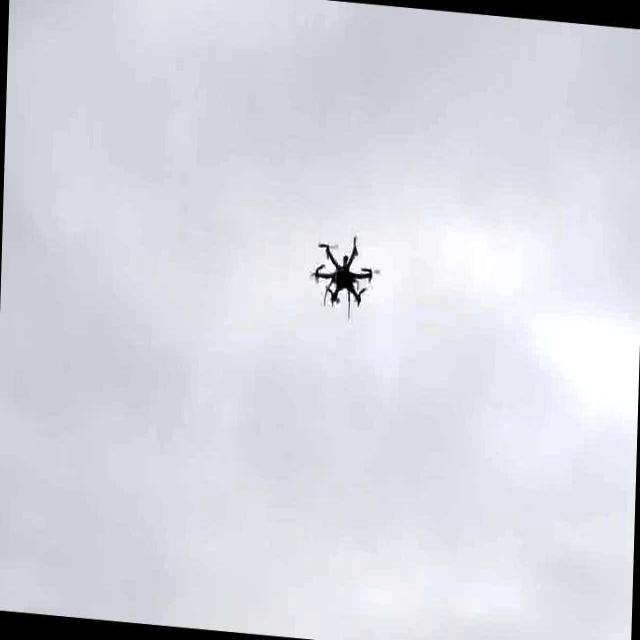drone: (309, 228, 377, 312)
